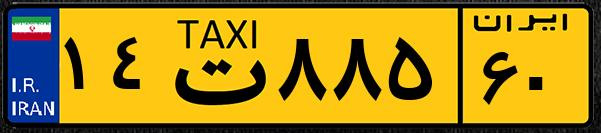0: (525, 38, 570, 115)
1: (57, 26, 110, 100)
4: (110, 28, 158, 98)
5: (385, 28, 445, 110)
6: (475, 38, 525, 113)
8: (270, 28, 330, 110), (330, 28, 385, 110)
ت: (158, 12, 270, 120)
